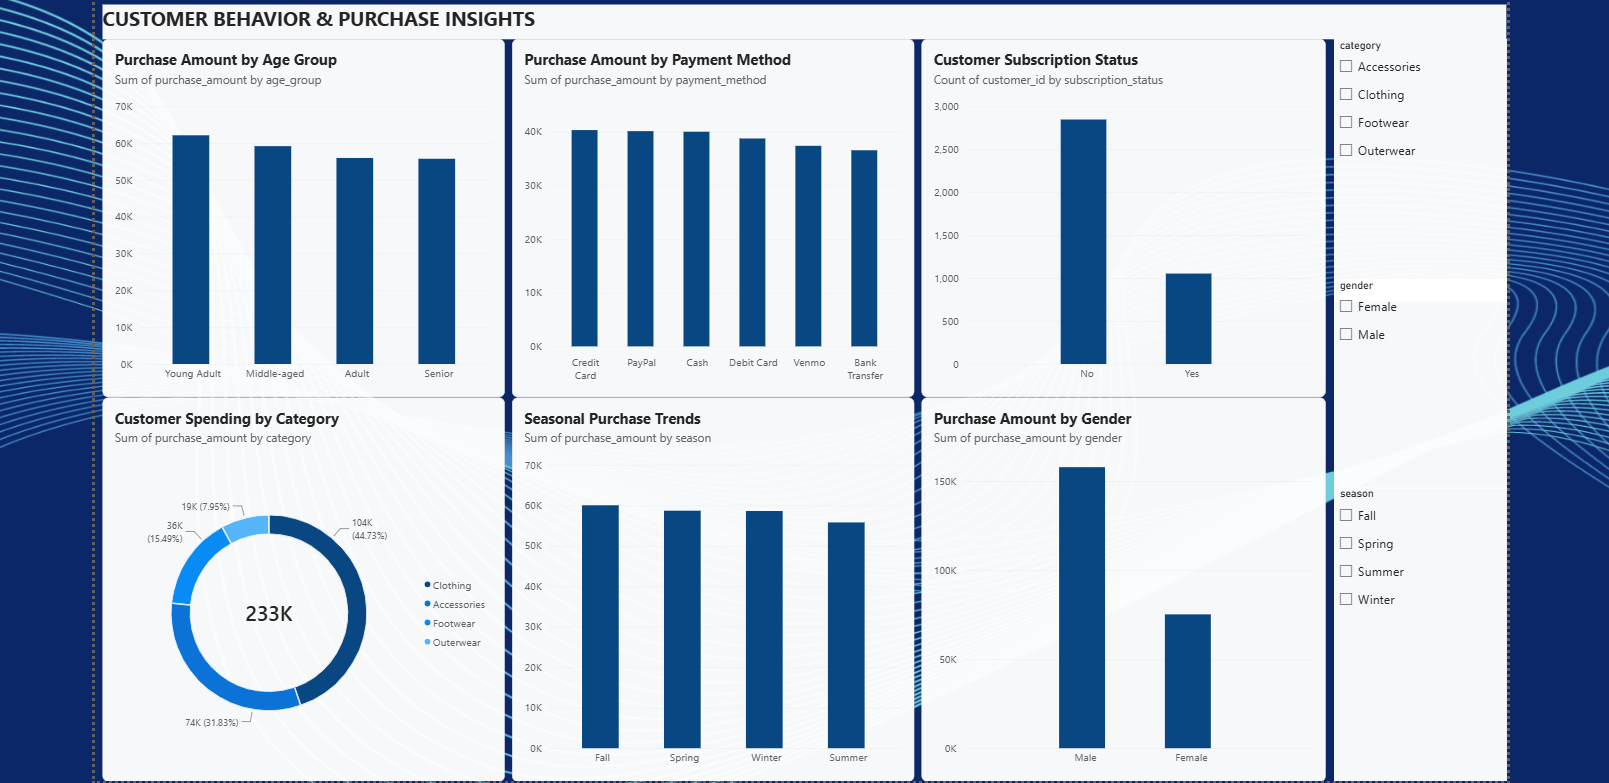

The dashboard page shown, as its layout file describes it:
{"tool":"powerbi","page":{"name":"Page 2","canvas":[1920,1080],"ordinal":1},"visuals":[{"type":"clusteredColumnChart","title":"Purchase Amount by Age Group","fields":{"Category":["public customer.age_group"],"Y":["Sum(public customer.purchase_amount)"]},"box":[10,70,547.5,487.5],"z":0},{"type":"donutChart","title":"Customer Spending by Category","fields":{"Category":["public customer.category"],"Y":["Sum(public customer.purchase_amount)"]},"box":[10,557.5,547.5,522.5],"z":1000},{"type":"clusteredColumnChart","title":"Purchase Amount by Payment Method","fields":{"Category":["public customer.payment_method"],"Y":["Sum(public customer.purchase_amount)"]},"box":[567.5,70,547.5,487.5],"z":2000},{"type":"clusteredColumnChart","title":"Seasonal Purchase Trends","fields":{"Category":["public customer.season"],"Y":["Sum(public customer.purchase_amount)"]},"box":[567.5,557.5,547.5,522.5],"z":3000},{"type":"clusteredColumnChart","title":"Customer Subscription Status","fields":{"Category":["public customer.subscription_status"],"Y":["Count(public customer.customer_id)"]},"box":[1125,70,550,487.5],"z":4000},{"type":"clusteredColumnChart","title":"Purchase Amount by Gender","fields":{"Category":["public customer.gender"],"Y":["Sum(public customer.purchase_amount)"]},"box":[1125,557.5,550,522.5],"z":5000},{"type":"slicer","fields":{"Values":["public customer.category"]},"box":[1685,70,235,357.5],"z":6000},{"type":"slicer","fields":{"Values":["public customer.gender"]},"box":[1685,395,235,285],"z":7000},{"type":"slicer","fields":{"Values":["public customer.season"]},"box":[1685,680,235,400],"z":8000},{"type":"textbox","box":[10,22.5,1910,47.5],"z":8001}]}

Visuals, with their boxes in screenshot pixels (x1, y1, x2, y2):
"Purchase Amount by Age Group" clusteredColumnChart: {"left": 91, "top": 2, "right": 497, "bottom": 363}
"Customer Spending by Category" donutChart: {"left": 91, "top": 363, "right": 497, "bottom": 751}
"Purchase Amount by Payment Method" clusteredColumnChart: {"left": 505, "top": 2, "right": 911, "bottom": 363}
"Seasonal Purchase Trends" clusteredColumnChart: {"left": 505, "top": 363, "right": 911, "bottom": 751}
"Customer Subscription Status" clusteredColumnChart: {"left": 918, "top": 2, "right": 1326, "bottom": 363}
"Purchase Amount by Gender" clusteredColumnChart: {"left": 918, "top": 363, "right": 1326, "bottom": 751}
slicer - public customer.category: {"left": 1334, "top": 2, "right": 1508, "bottom": 267}
slicer - public customer.gender: {"left": 1334, "top": 243, "right": 1508, "bottom": 454}
slicer - public customer.season: {"left": 1334, "top": 454, "right": 1508, "bottom": 751}
textbox: {"left": 91, "top": 0, "right": 1508, "bottom": 2}
